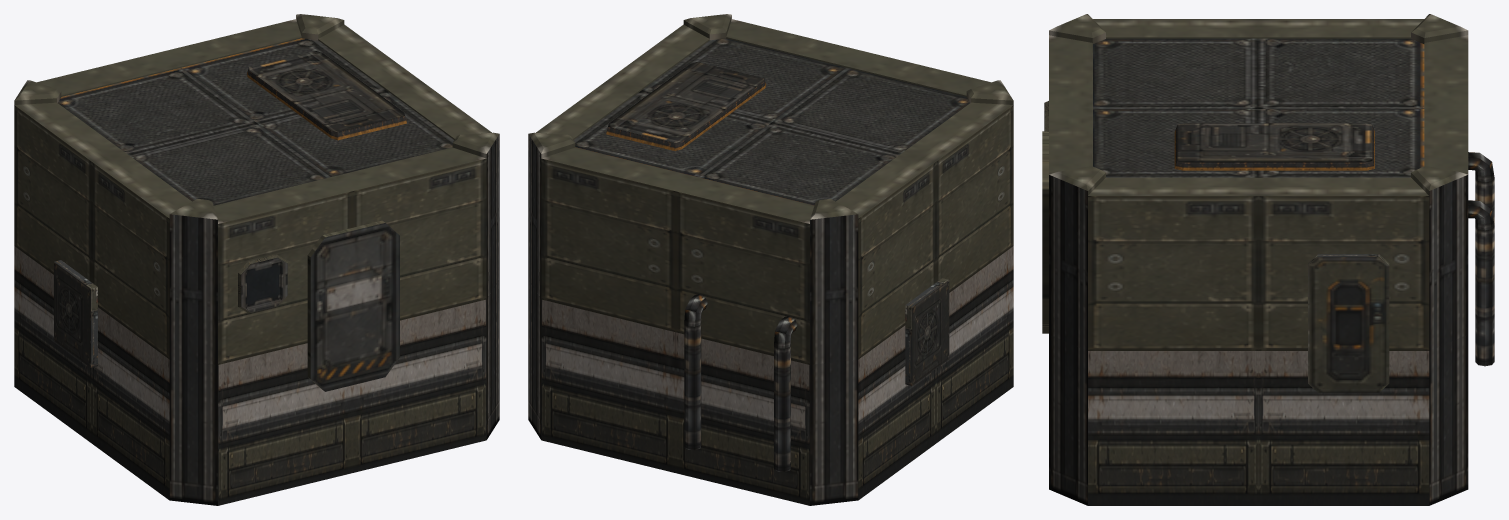
The model's file is house.dae.
3 renders of one model, left to right at view 1: azimuth 30°, elevation 25°; view 2: azimuth 150°, elevation 25°; view 3: azimuth 270°, elevation 25°, orthographic. The views are drawn at different scales.
Visible parts, largest first — view 1: casa_storehouse.001; view 2: casa_storehouse.001; view 3: casa_storehouse.001.
Part boxes in pixels (x1,y1,x2,y2): casa_storehouse.001: (14, 14, 499, 505); casa_storehouse.001: (528, 14, 1013, 505); casa_storehouse.001: (1042, 14, 1494, 505).
Size of the model in its own units: 13.43 by 13.99 by 10.85.
